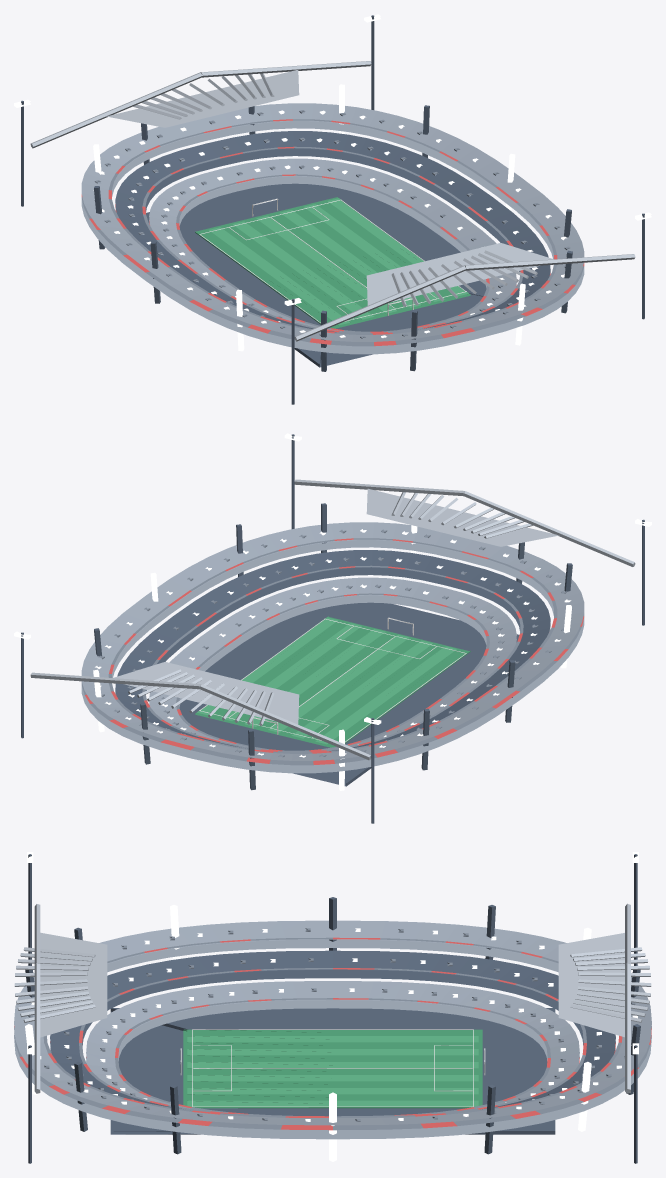
Rendered from old-trafford.glb.
The picture shows the model from 3 angles, top to bottom: view 1: azimuth 30°, elevation 25°; view 2: azimuth 150°, elevation 25°; view 3: azimuth 270°, elevation 25°; orthographic projection. The views are drawn at different scales.
Parts seen in each view (by area): view 1: Old Trafford; view 2: Old Trafford; view 3: Old Trafford.
Boxes of the visible parts, x1,y1,x2,y2 form: Old Trafford: (14,14,651,404); Old Trafford: (14,433,651,823); Old Trafford: (14,852,651,1163).
Bounding box in the file's own units: 63.2 × 17.65 × 83.2.
